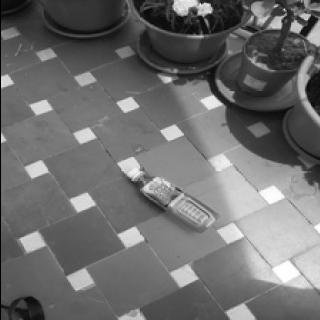plastic_bottles: (111, 154, 218, 236)
